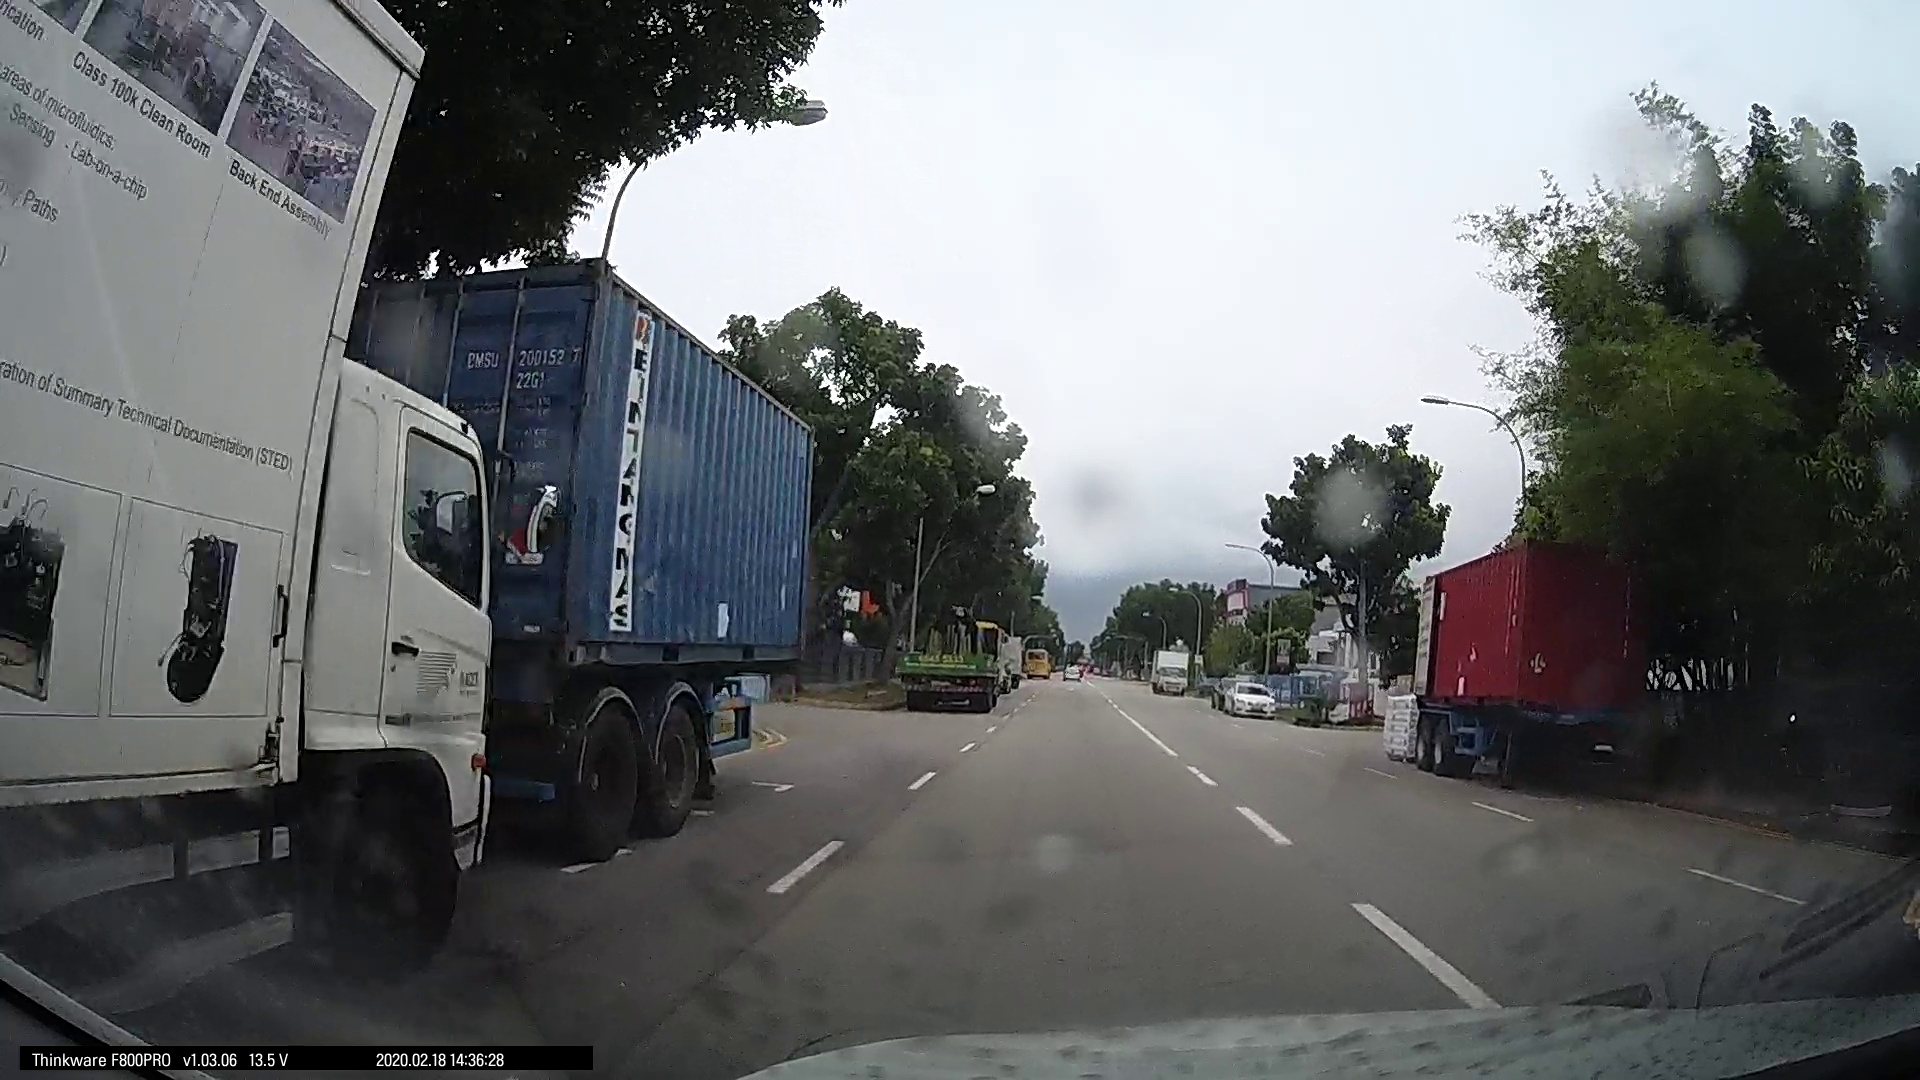Heavy Vehicle: (15, 1, 520, 1004), (407, 247, 806, 843), (1394, 534, 1697, 781)
Light Vehicle: (1216, 671, 1276, 719), (1146, 646, 1191, 694)
